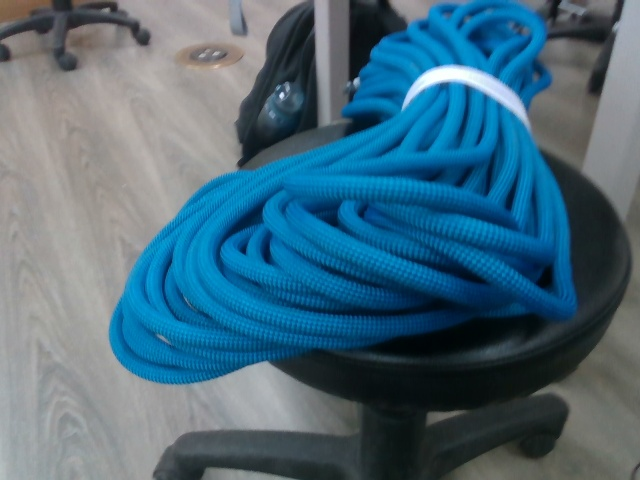rope: (104, 1, 584, 386)
